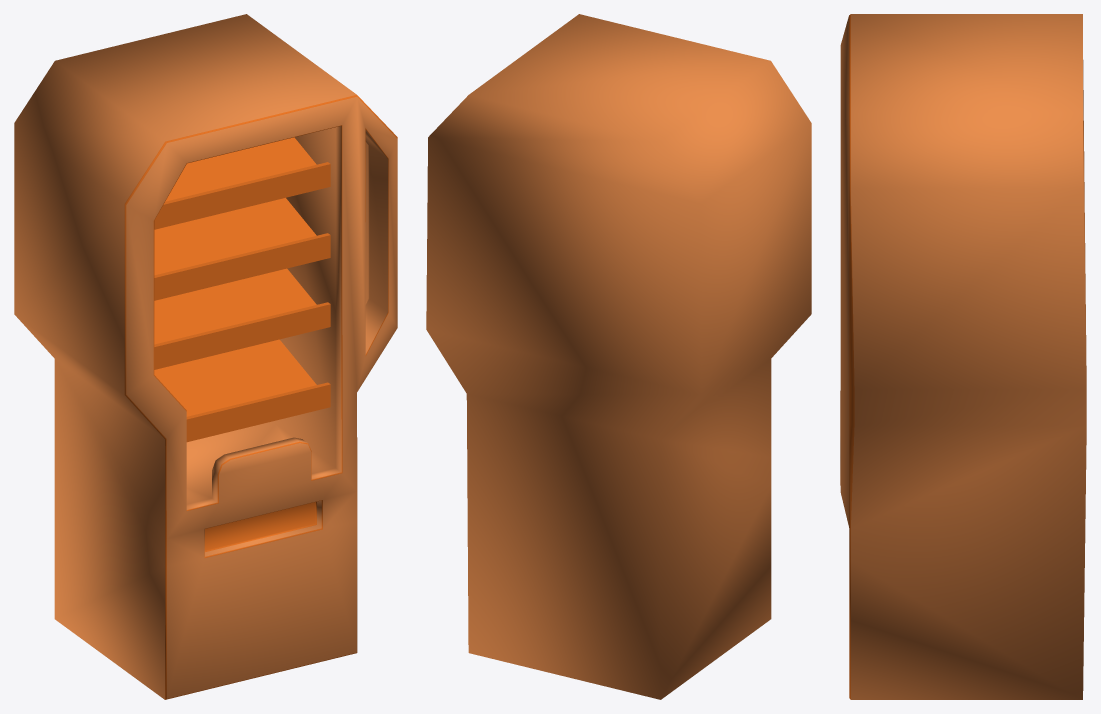
File: VendingMachine.fbx
The picture shows the model from 3 angles, left to right: view 1: azimuth 30°, elevation 25°; view 2: azimuth 150°, elevation 25°; view 3: azimuth 270°, elevation 25°; orthographic projection. The views are drawn at different scales.
Visible parts, largest first — view 1: Cylinder.022; view 2: Cylinder.022; view 3: Cylinder.022.
Part boxes in pixels (x1,y1,x2,y2): Cylinder.022: (14,14,397,699); Cylinder.022: (426,14,811,699); Cylinder.022: (840,14,1086,699).
Bounding box in the file's own units: 85.24 × 166 × 63.32.
